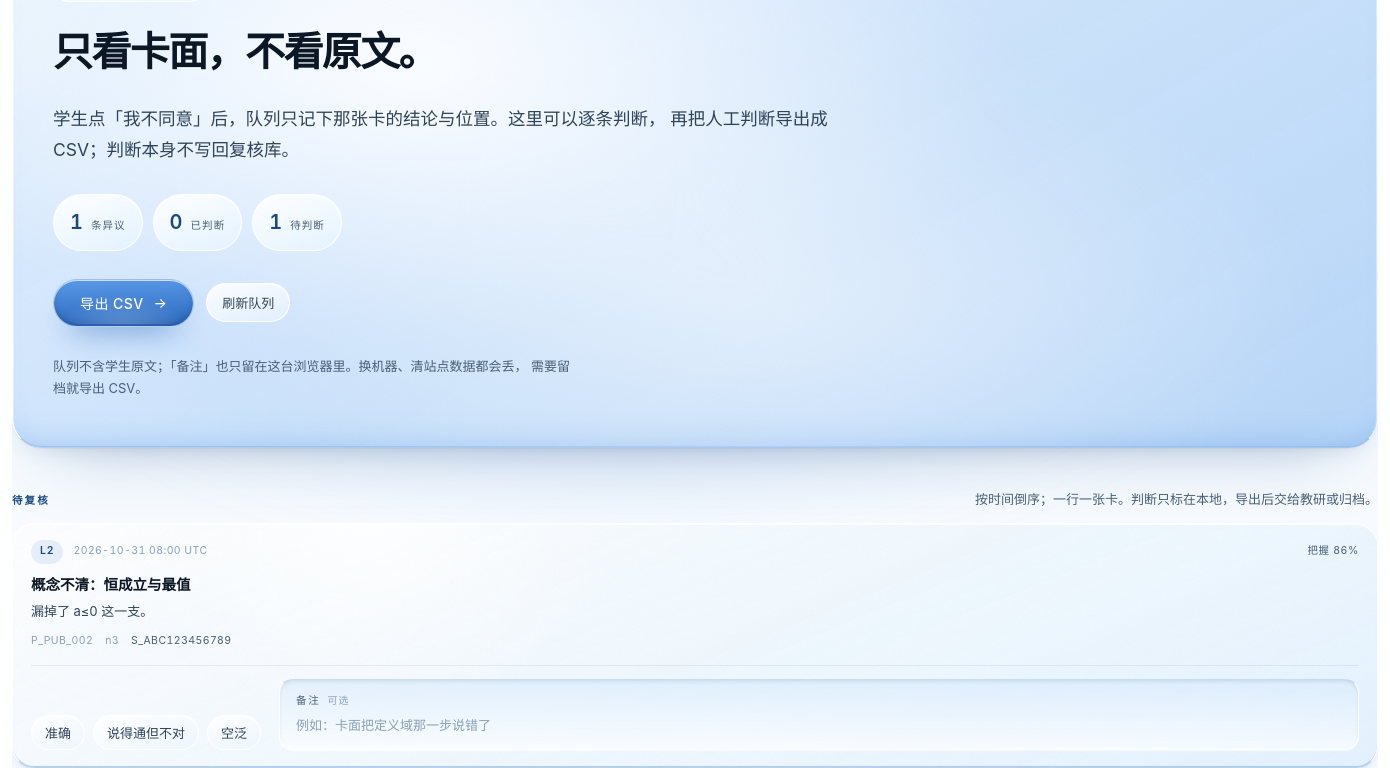
Test: ReviewBoard › clears local judgments without touching the queue
The width and height of the screenshot is (1390, 768).
(page scrolled)
Expected: the text "概念不清：恒成立与最值" is shown, [31,576,190,592]
Click the button "空泛" at [234, 732], box [207,715,261,750]
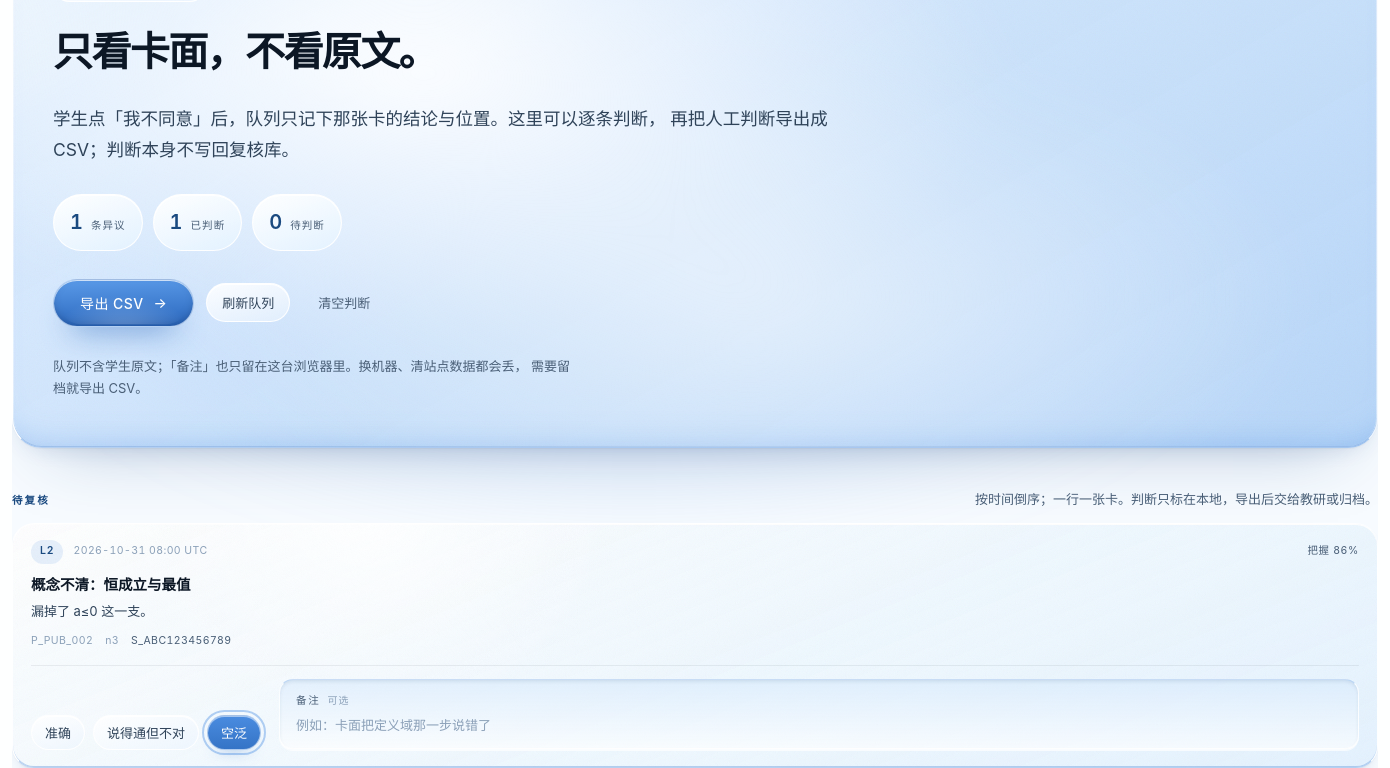
Click the button "清空判断" at [344, 302], box [302,283,386,322]
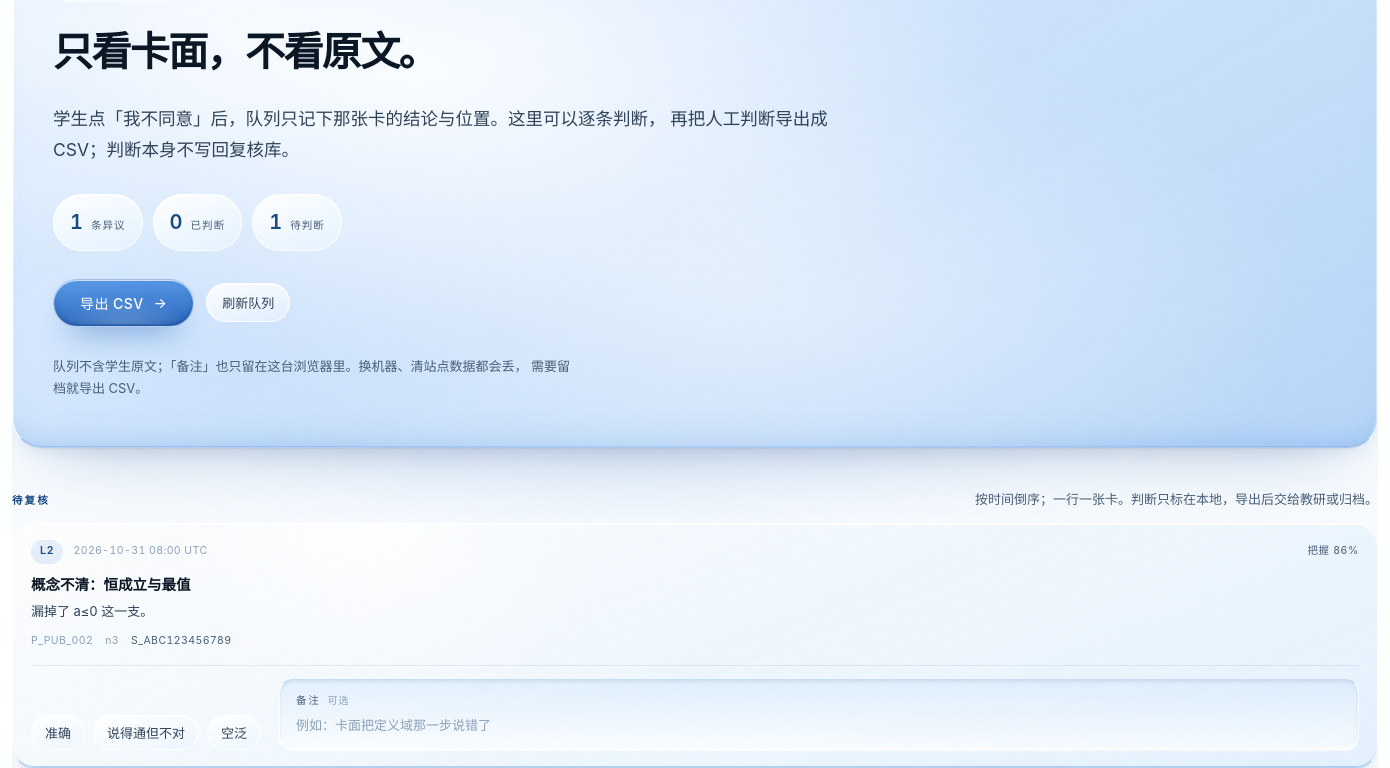
Expected: the text "概念不清：恒成立与最值" is shown, [31,576,190,592]
Now the button "清空判断" is gone
